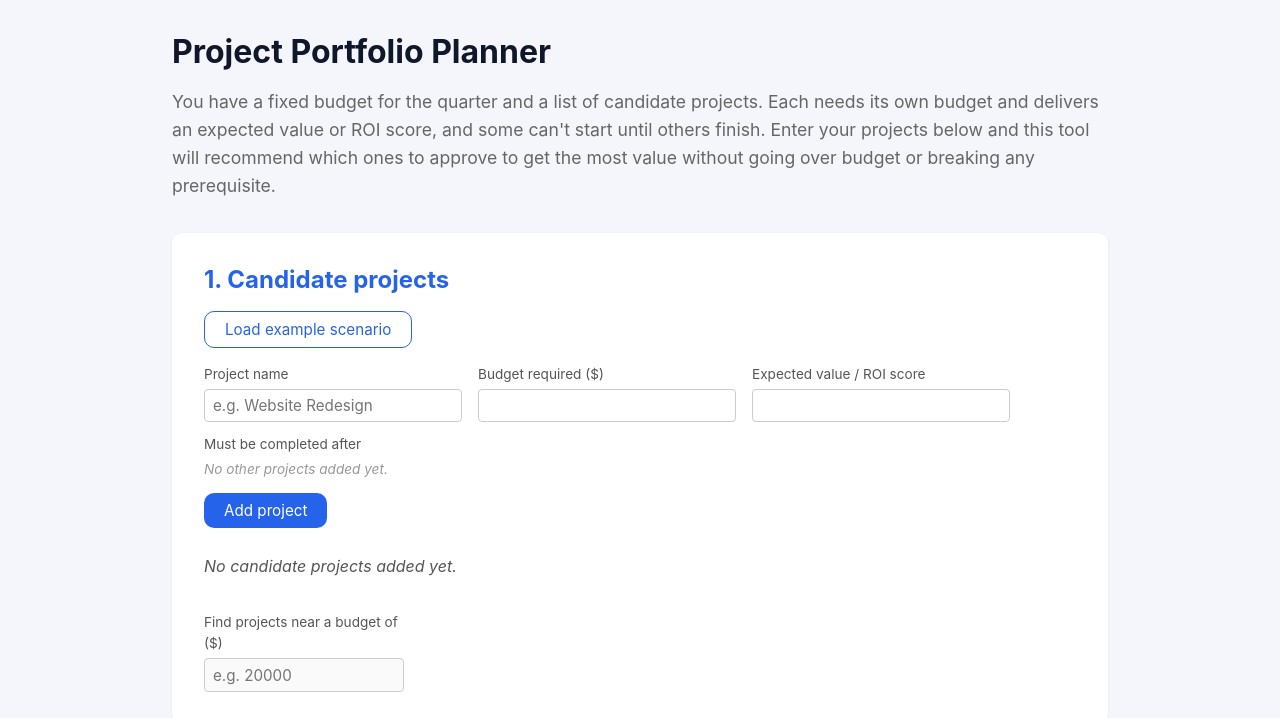
Test: App › loading the example scenario pre-fills projects and budget, ready to run
The image size is (1280, 718).
What coordinates should you click on to do the following:
click the button "Load example scenario"
I would click on:
 (308, 329)
Its box is top-left (204, 311), bottom-right (412, 348).
(page scrolled)
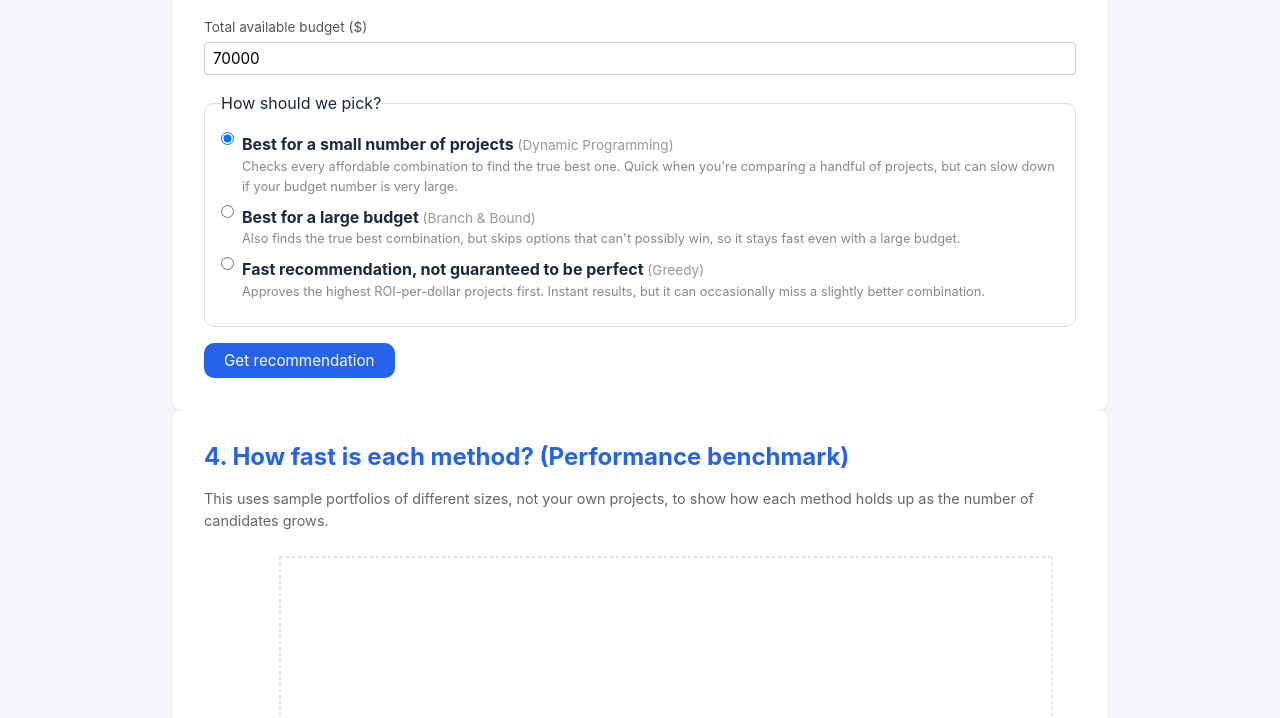
Now the number field labelled "Total available budget ($)" holds "70000", box top-left (204, 42), bottom-right (1076, 75)
Now the button "Get recommendation" is enabled
What coordinates should you click on to do the following:
click the button "Get recommendation"
I would click on:
 (299, 360)
Its box is top-left (204, 343), bottom-right (394, 378).
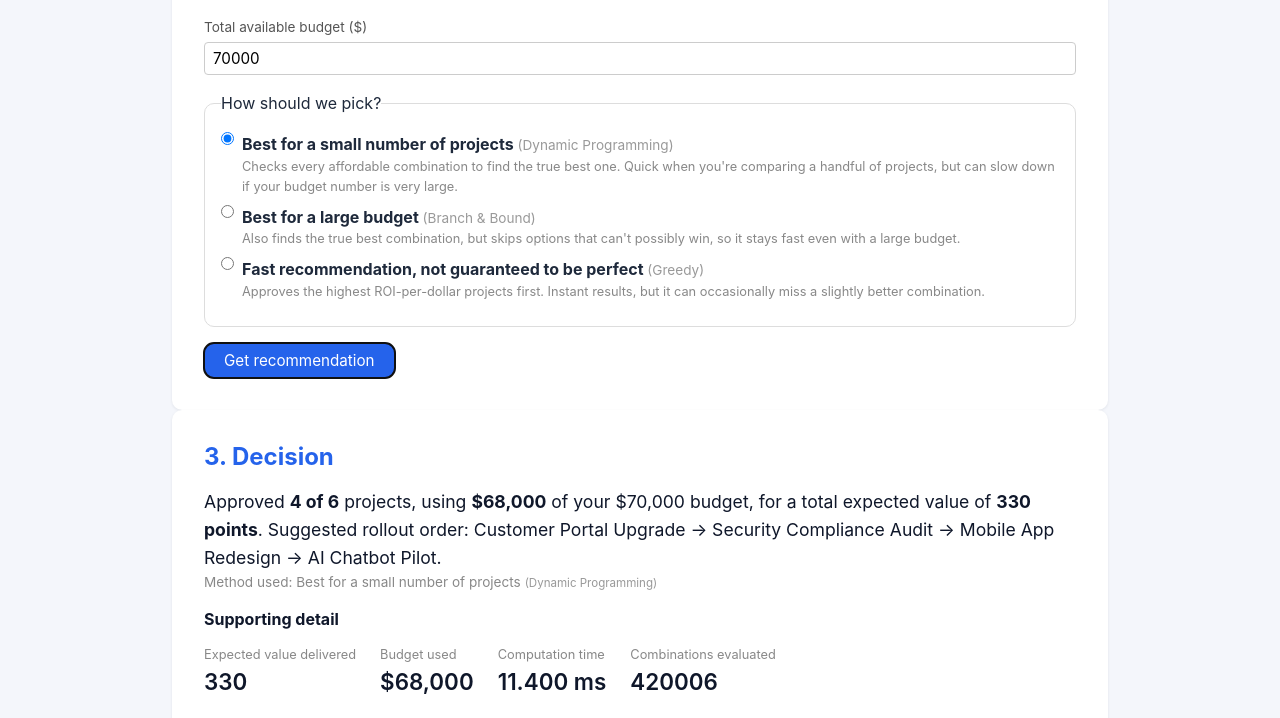
Now the text "Approved" is shown, box top-left (204, 491), bottom-right (290, 512)
